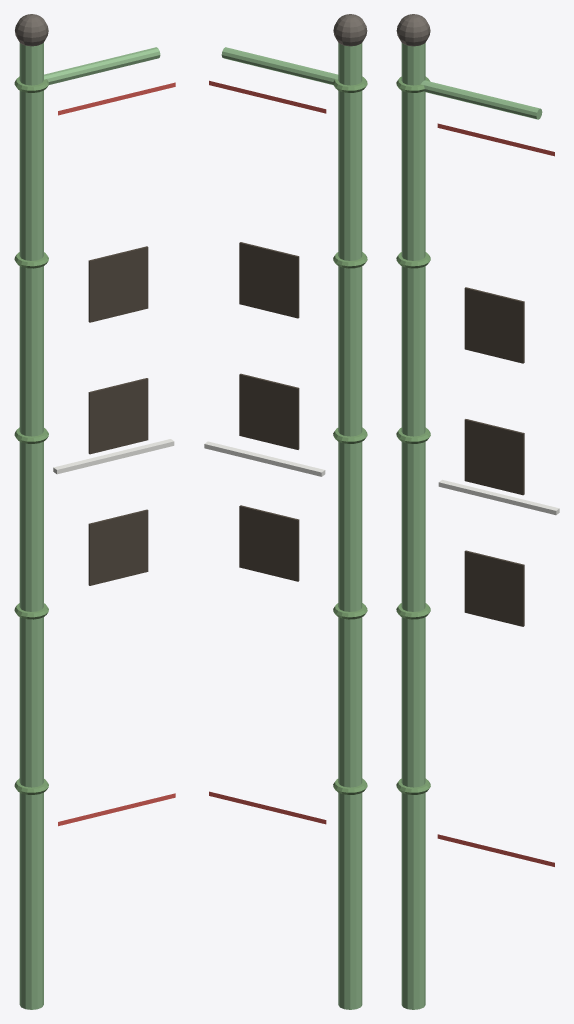
Rendered from banner.glb.
The picture shows the model from 3 angles, left to right: view 1: azimuth 30°, elevation 25°; view 2: azimuth 150°, elevation 25°; view 3: azimuth 330°, elevation 25°; orthographic projection.
Visible parts, largest first — view 1: banner; view 2: banner; view 3: banner.
Boxes of the visible parts, bbox=[...] form: banner: bbox=[14, 14, 175, 1009]; banner: bbox=[204, 14, 367, 1009]; banner: bbox=[396, 14, 559, 1009].
Size of the model in its own units: 0.376 by 2.25 by 0.072.
